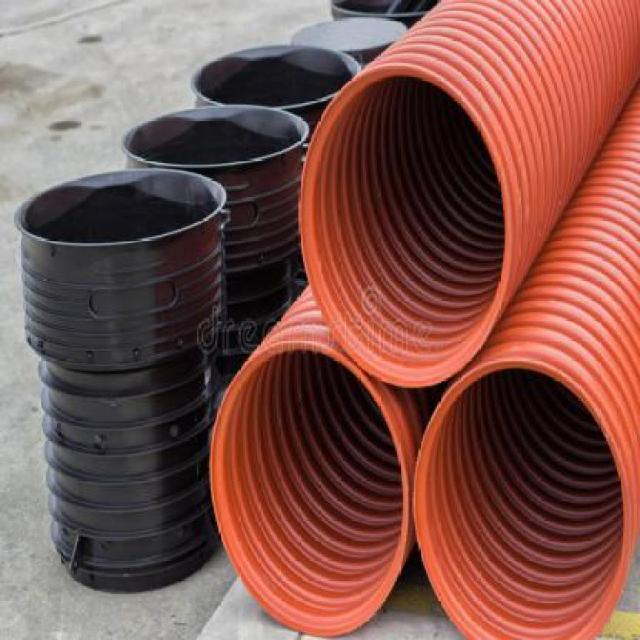pipe: (299, 65, 508, 388), (412, 359, 631, 639), (208, 343, 407, 637)
